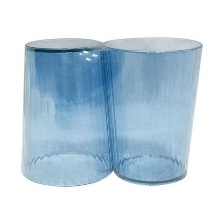glass: (99, 32, 207, 193), (13, 30, 120, 191)
